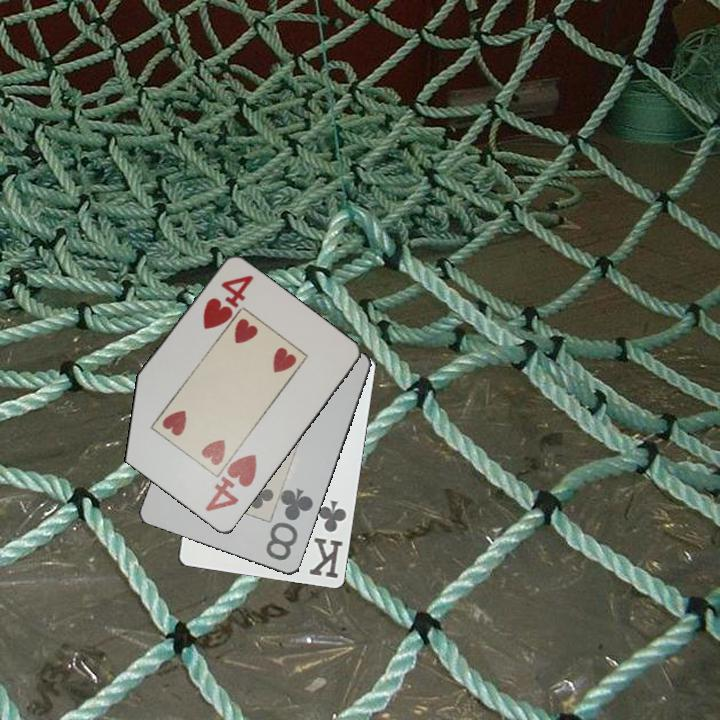4h: (202, 451, 260, 515), (199, 272, 257, 333)
8c: (262, 484, 316, 564)
Kc: (306, 497, 350, 582)
